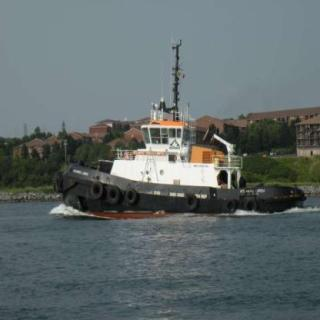Tug Boat: (46, 70, 296, 212)
